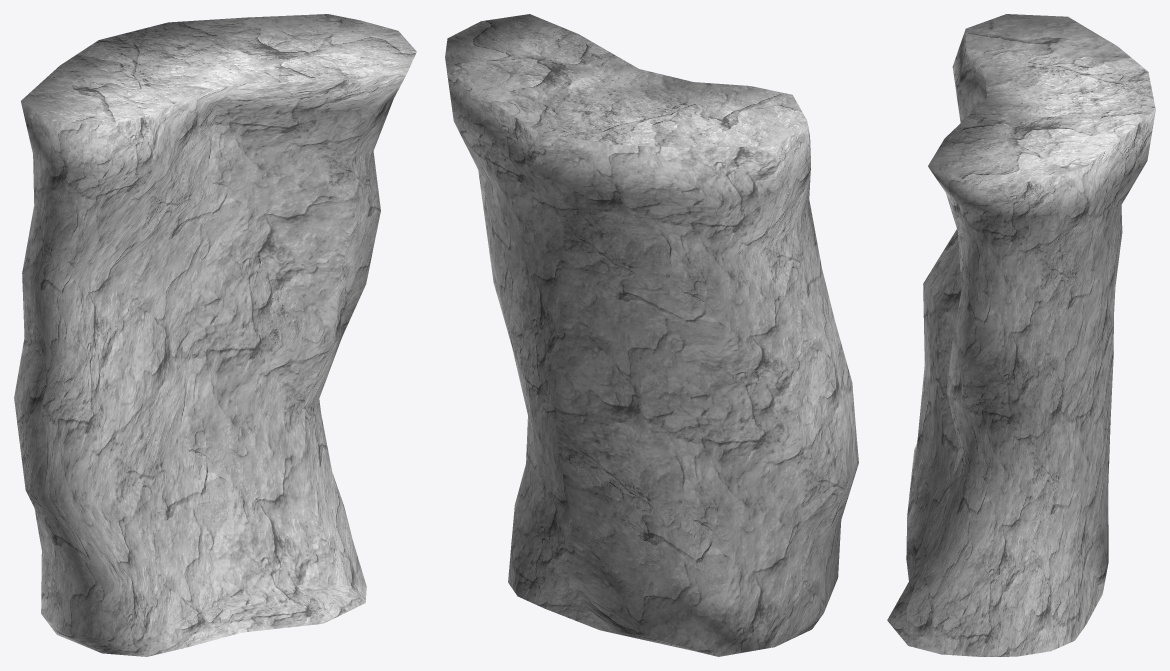
Rendered from Clif_New_03.fbx.
The picture shows the model from 3 angles, left to right: view 1: azimuth 30°, elevation 25°; view 2: azimuth 150°, elevation 25°; view 3: azimuth 270°, elevation 25°; orthographic projection.
Visible parts, largest first — view 1: Clif_New_03; view 2: Clif_New_03; view 3: Clif_New_03.
Boxes of the visible parts, x1,y1,x2,y2 form: Clif_New_03: (14, 14, 416, 656); Clif_New_03: (445, 14, 858, 656); Clif_New_03: (887, 14, 1155, 656).
Bounding box in the file's own units: 18157 × 23181 × 11107.
